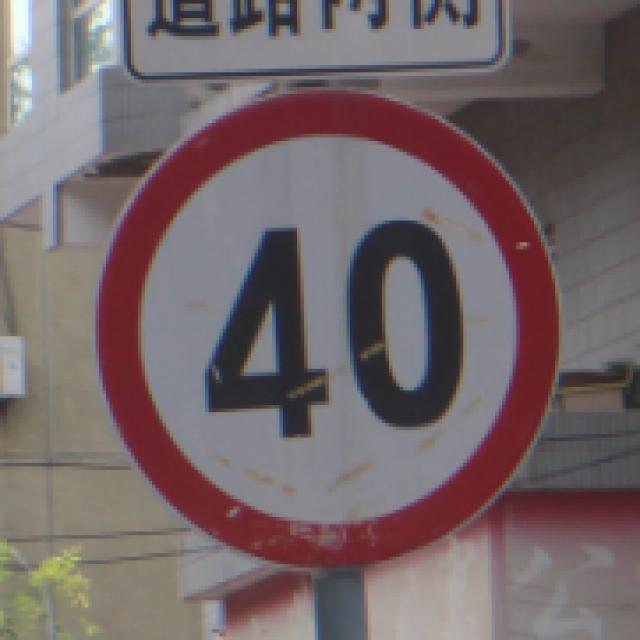Speed: (95, 87, 571, 574)
